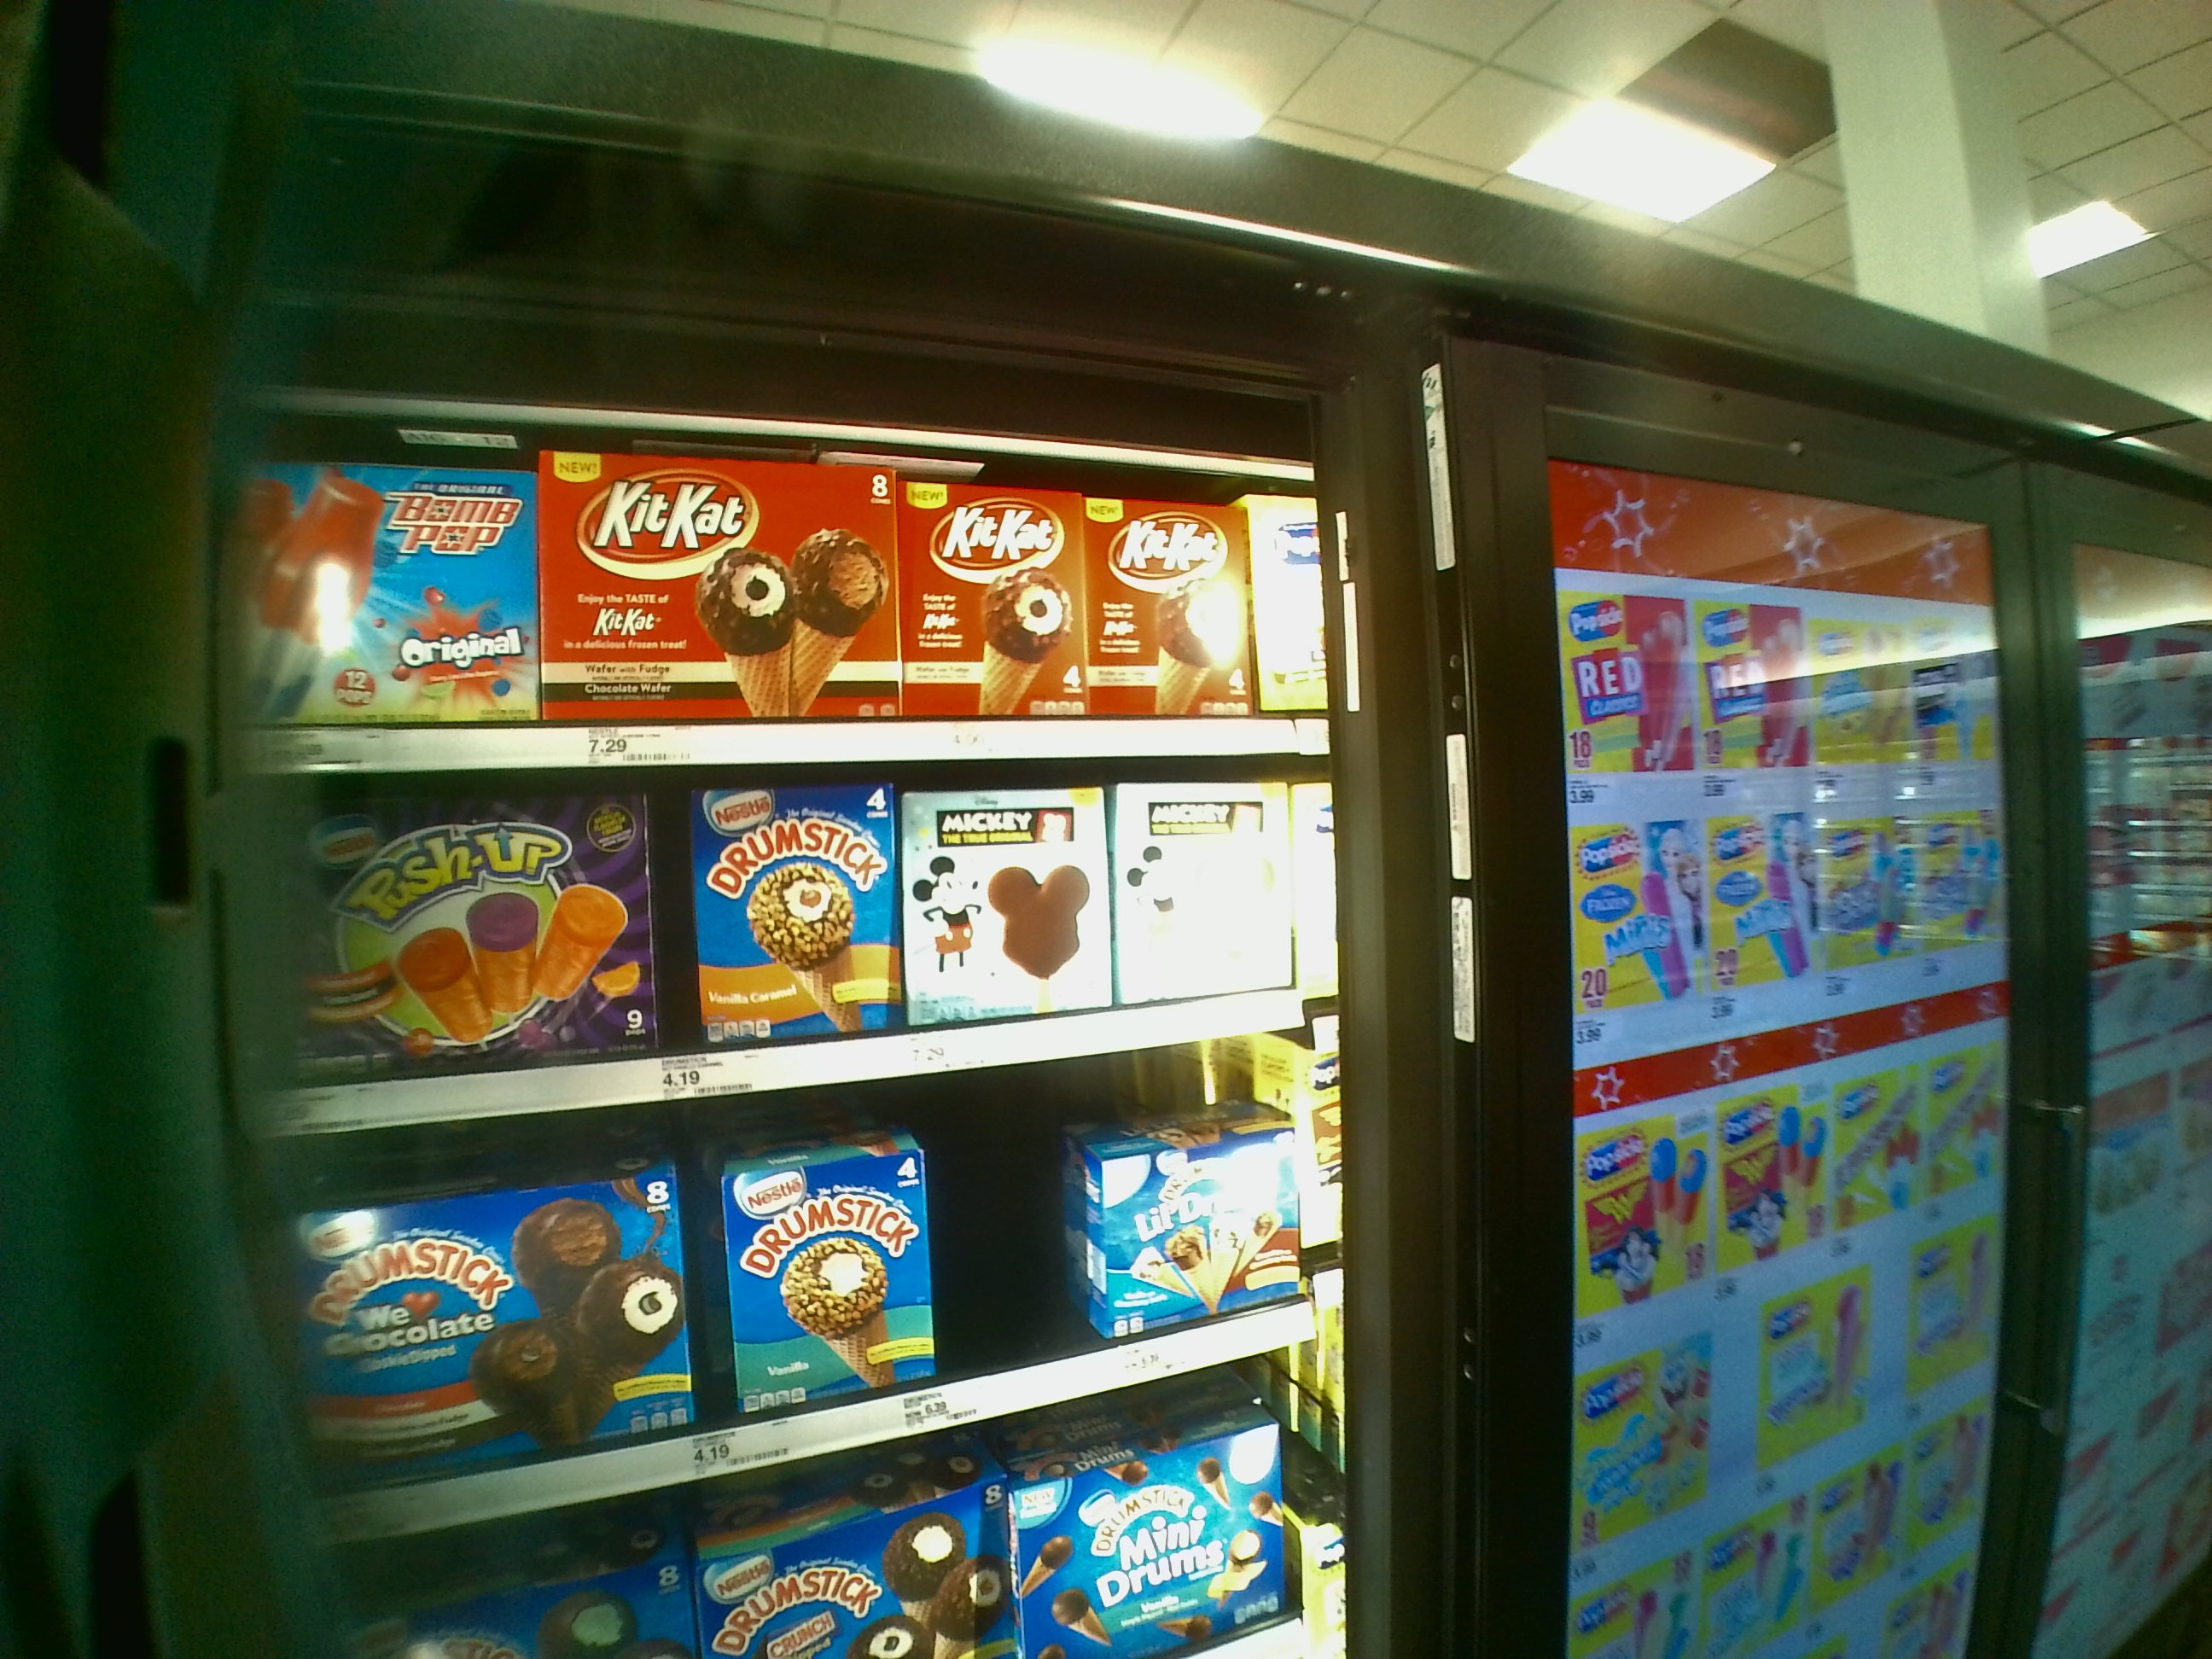shelf: (254, 1072, 1341, 1436), (237, 425, 1338, 758), (244, 774, 1331, 1082)
